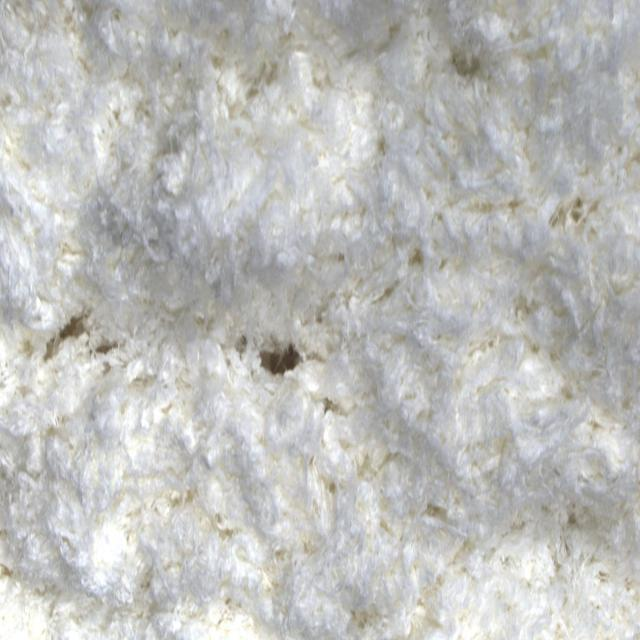dust: (250, 331, 314, 380), (43, 315, 93, 353)
